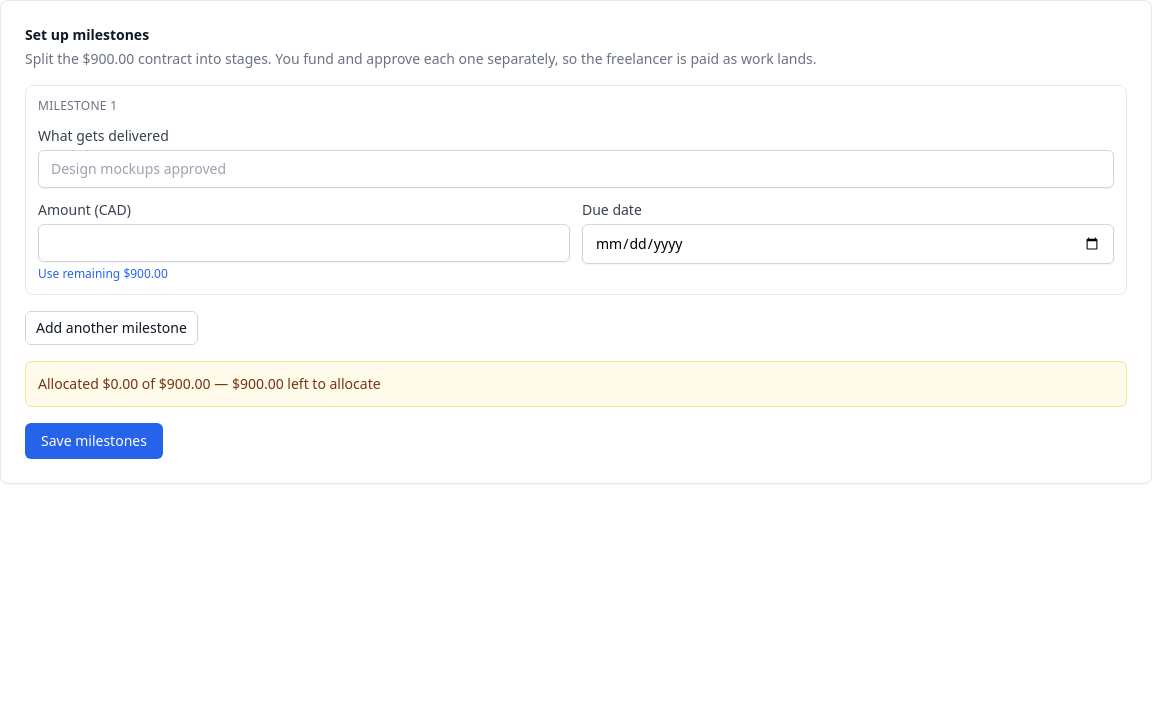
MilestoneSetupForm › fills the remaining amount on request so the total balances exactly
Type "Design" into the field labelled "What gets delivered". click: (576, 169)
box: [38,150,1114,188]
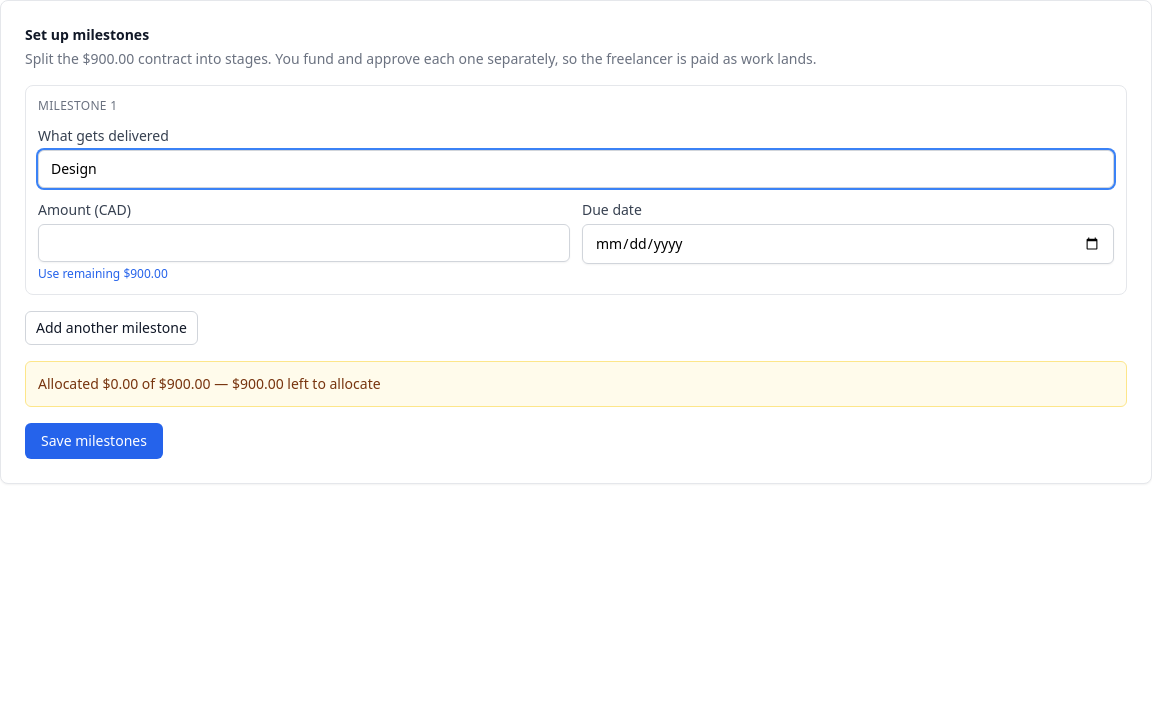
Type "400.00" into the number field labelled "Amount (CAD)". click: (304, 243)
box: [38,224,570,262]
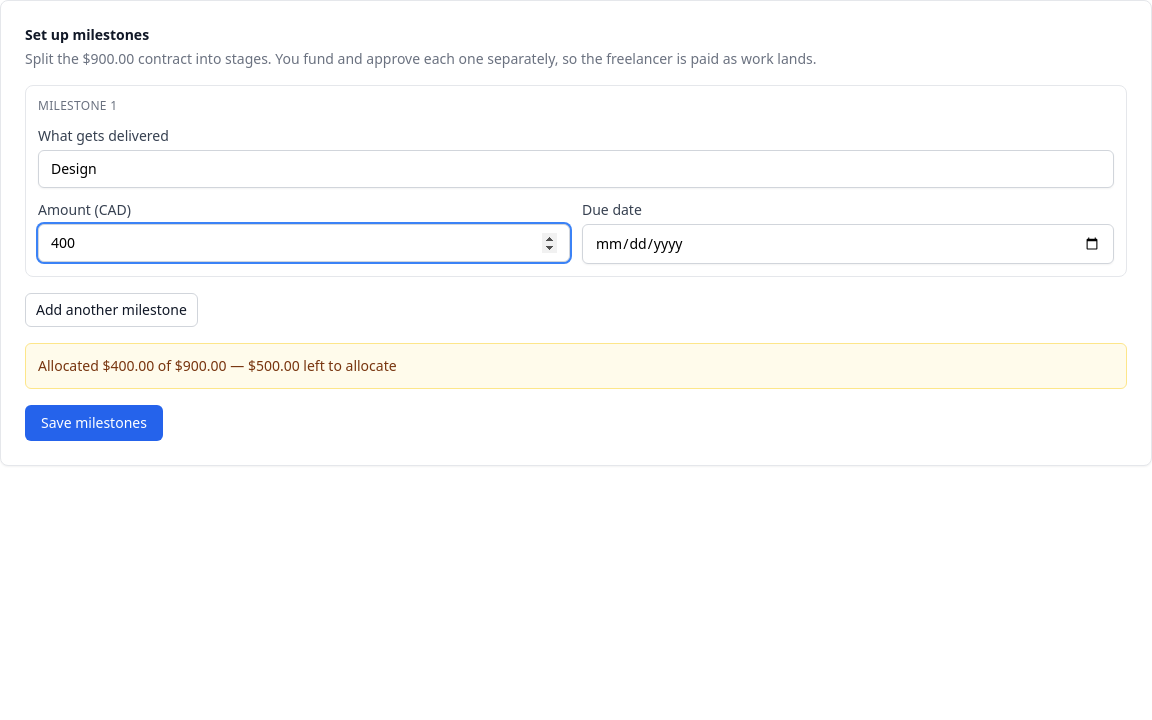
Type "2027-01-01" into the date field labelled "Due date". click: (848, 244)
box: [582,224,1114,264]
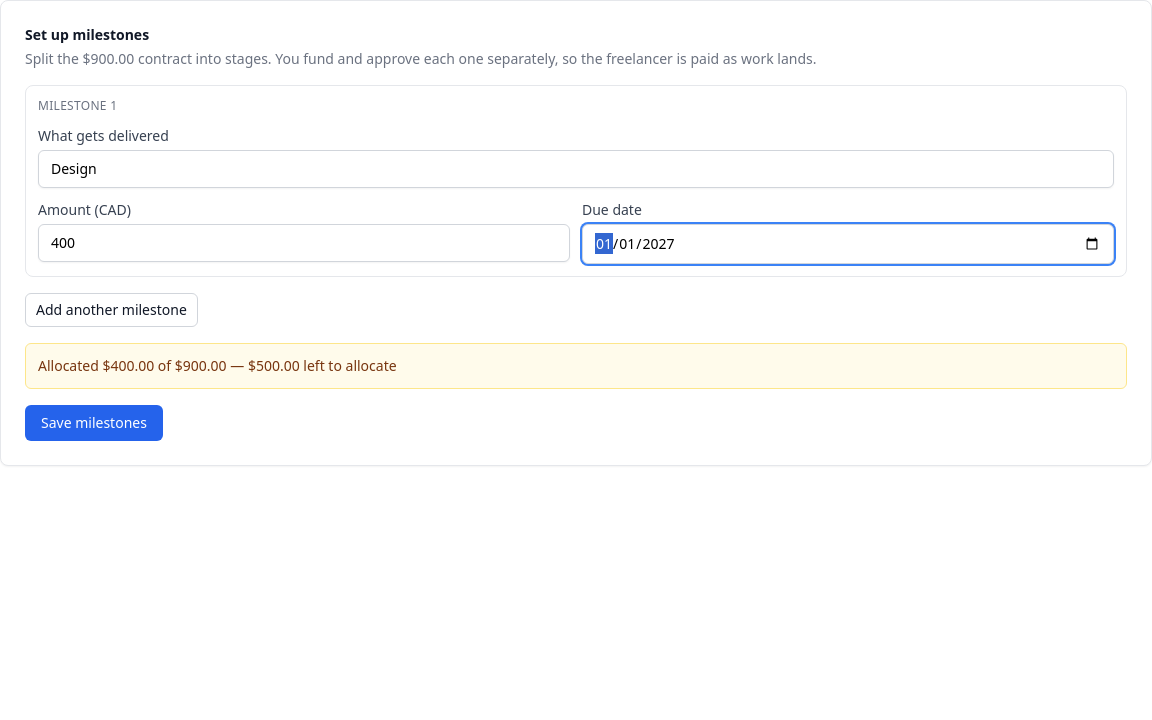
Click the button "Add another milestone". click: (111, 310)
box: [25,293,198,327]
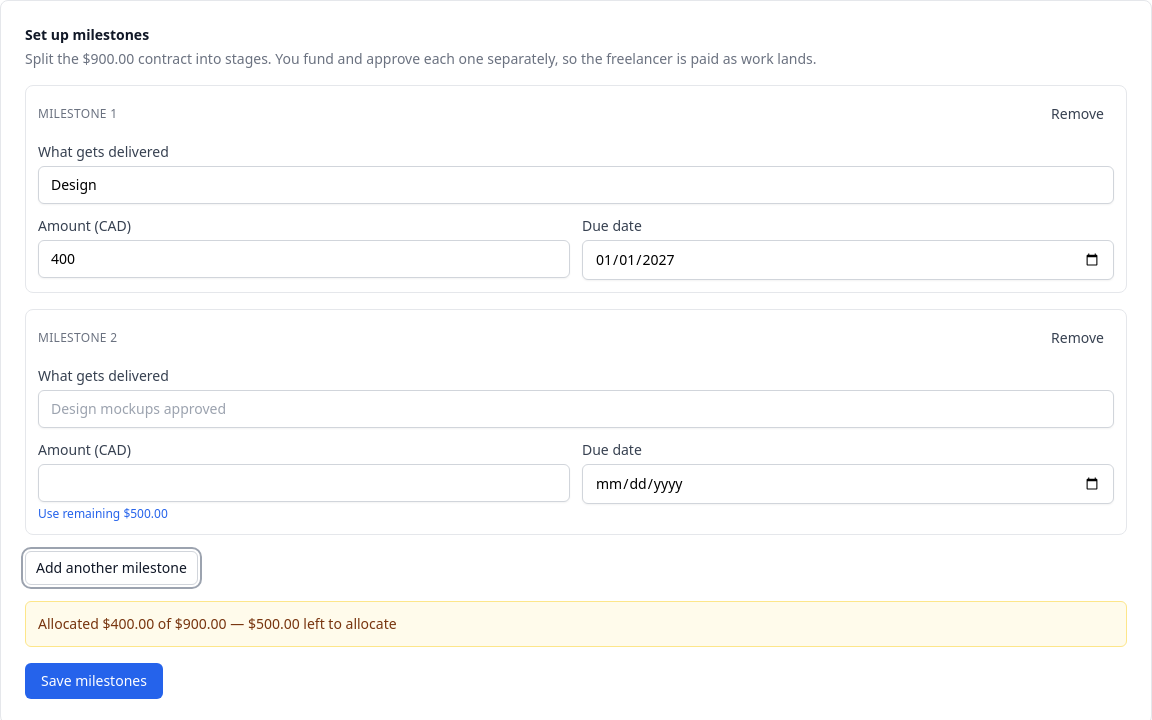
Click the button "Use remaining $500.00". click: (103, 514)
box: [38,506,168,522]
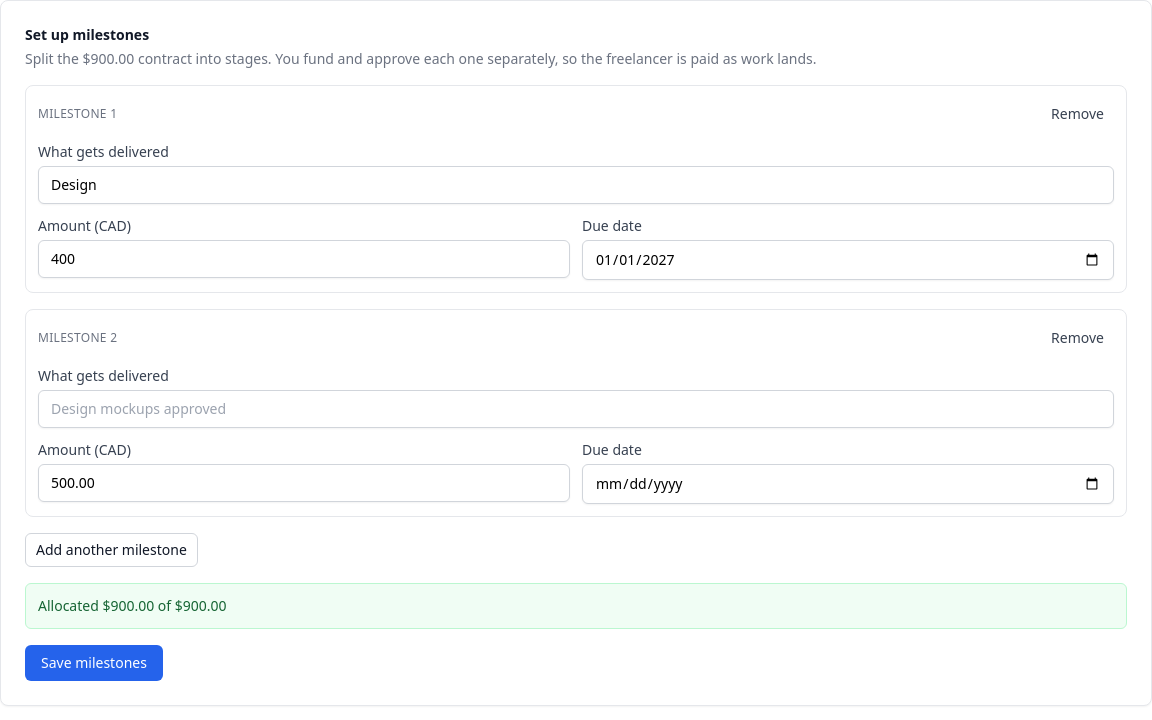
Expected: the 2nd number field labelled "Amount (CAD)" holds "500", [38,464,570,502]
Expected: the text "Allocated $900.00 of $900.00" is shown, [38,596,227,615]
